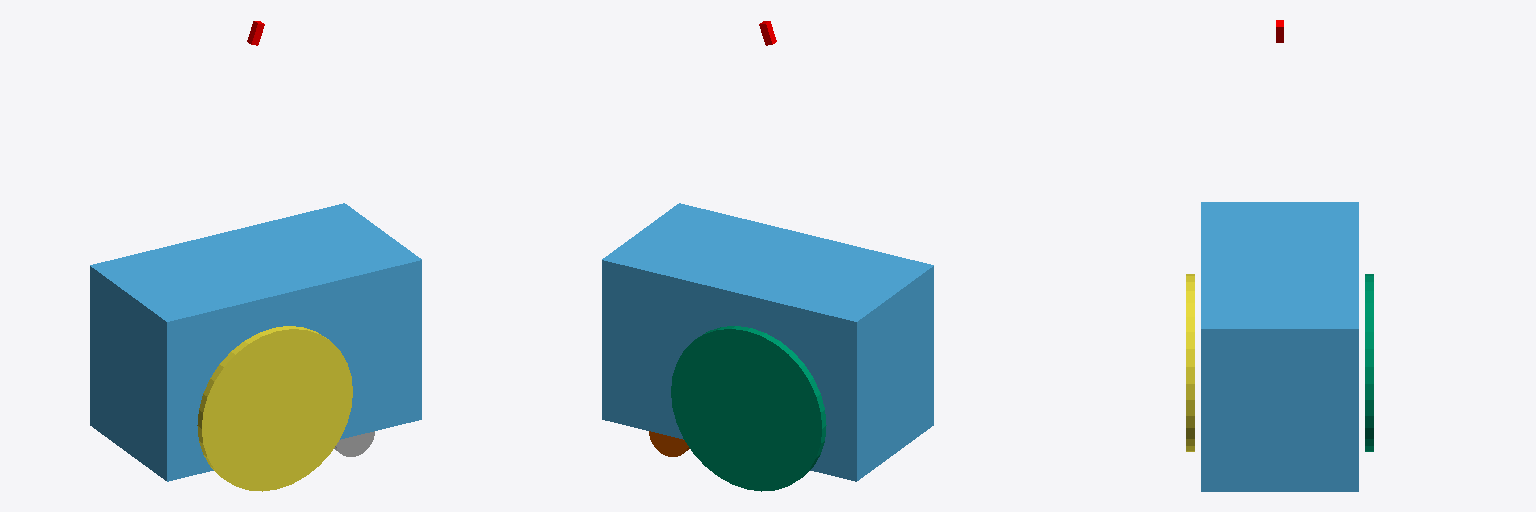
URDF robot description (momo):
<robot name="momo">
  <material name="red">
    <color rgba="1.0 0.0 0.0 1.0"/>
  </material>

  <link name="base_footprint"/>

  <link name="base_link">
    <visual name="base_visual">
      <origin xyz="0 0 0.4125" rpy="0 0 0"/>
      <geometry>
        <box size="1.029 0.542 0.615"/>
      </geometry>
    </visual>
  </link>

  <link name="wheel_left_link">
    <visual name="wheel_left_visual">
      <origin xyz="0 0 0" rpy="0 0 0"/>
      <geometry>
        <cylinder radius="0.305" length="0.030"/>
      </geometry>
    </visual>
  </link>

  <link name="wheel_right_link">
    <visual name="wheel_right_visual">
      <origin xyz="0 0 0" rpy="0 0 0"/>
      <geometry>
        <cylinder radius="0.305" length="0.030"/>
      </geometry>
    </visual>
  </link>

  <link name="caster_left_link">
    <visual name="caster_left_visual">
      <origin xyz="0 0 0" rpy="0 0 0"/>
      <geometry>
        <cylinder radius="0.021" length="0.100"/>
      </geometry>
    </visual>
  </link>

  <link name="caster_wheel_left_link">
    <visual name="caster_wheel_left_visual">
      <origin xyz="0 0 0" rpy="0 0 0"/>
      <geometry>
        <cylinder radius="0.080" length="0.030"/>
      </geometry>
    </visual>
  </link>

  <link name="caster_right_link">
    <visual name="caster_right_visual">
      <origin xyz="0 0 0" rpy="0 0 0"/>
      <geometry>
        <cylinder radius="0.021" length="0.100"/>
      </geometry>
    </visual>
  </link>

  <link name="caster_wheel_right_link">
    <visual name="caster_wheel_right_visual">
      <origin xyz="0 0 0" rpy="0 0 0"/>
      <geometry>
        <cylinder radius="0.080" length="0.030"/>
      </geometry>
    </visual>
  </link>

  <joint name="base_joint" type="fixed">
    <parent link="base_footprint"/>
    <child link="base_link"/>
    <origin xyz="0.0 0.0 0.010" rpy="0 0 0"/>
  </joint>

  <joint name="wheel_left_joint" type="revolute">
    <limit upper="6.28" lower="-6.28" effort="1000" velocity="1000.00"/>
    <parent link="base_link"/>
    <child link="wheel_left_link"/>
    <origin xyz="-0.1 0.3076 0.305" rpy="-1.57 0 0"/>

    <axis xyz="0 0 1"/>
  </joint>

  <joint name="wheel_right_joint" type="revolute">
    <limit upper="6.28" lower="-6.28" effort="1000" velocity="1000.00"/>
    <parent link="base_link"/>
    <child link="wheel_right_link"/>
    <origin xyz="-0.1 -0.3076 0.305" rpy="-1.57 0 0"/>
    <axis xyz="0 0 1"/>
  </joint>

  <joint name="caster_left_joint" type="revolute">
    <limit upper="6.28" lower="-6.28" effort="1000" velocity="1000.00"/>
    <parent link="base_link"/>
    <child link="caster_left_link"/>
    <origin xyz="0.32 0.21 0.18" rpy="0 0 0"/>
    <axis xyz="0 0 1"/>
  </joint>

  <joint name="caster_wheel_left_joint" type="revolute">
    <limit upper="6.28" lower="-6.28" effort="1000" velocity="1000.00"/>
    <parent link="caster_left_link"/>
    <child link="caster_wheel_left_link"/>
    <origin xyz="-0.05 0 -0.1" rpy="-1.57 0 0"/>
    <axis xyz="0 0 1"/>
  </joint>

  <joint name="caster_right_joint" type="revolute">
    <limit upper="6.28" lower="-6.28" effort="1000" velocity="1000.00"/>
    <parent link="base_link"/>
    <child link="caster_right_link"/>
    <origin xyz="0.32 -0.21 0.18" rpy="0 0 0"/>
    <axis xyz="0 0 1"/>
  </joint>

  <joint name="caster_wheel_right_joint" type="revolute">
    <limit upper="6.28" lower="-6.28" effort="1000" velocity="1000.00"/>
    <parent link="caster_right_link"/>
    <child link="caster_wheel_right_link"/>
    <origin xyz="-0.05 0 -0.1" rpy="-1.57 0 0"/>
    <axis xyz="0 0 1"/>
  </joint>

  <!-- Depth camera -->
  <link name="camera_link">
    <origin xyz="0 0 0" rpy="0 0 0"/>
    <visual name="camera_visual">
      <geometry>
        <box size="0.03 0.08 0.03"/>
      </geometry>
      <material name="red"/>
    </visual>
  </link>

  <joint name="camera_joint" type="fixed">
    <parent link="base_link"/>
    <child link="camera_link"/>
    <origin xyz="0 0 1.604" rpy="1.22173  3.14159 1.5708 "/>
    <!-- 0.349066 -->
  </joint>
</robot>

--- Render facts (derived) ---
3 views of the same robot in one strip: view 1: azimuth 30°, elevation 25°; view 2: azimuth 150°, elevation 25°; view 3: azimuth 270°, elevation 25° (orthographic).
Model momo with 9 links and 8 joints (6 revolute, 2 fixed), rooted at base_footprint, posed all joints at 0.
Visible links, largest first — view 1: base_link, wheel_right_link, caster_wheel_right_link; view 2: base_link, wheel_left_link, caster_wheel_left_link; view 3: base_link, wheel_left_link, wheel_right_link.
Boxes of the visible links, left/top/right/bottom form: base_link: left=90, top=203, right=421, bottom=481; wheel_right_link: left=197, top=326, right=352, bottom=491; caster_wheel_right_link: left=334, top=431, right=374, bottom=456; base_link: left=602, top=203, right=933, bottom=481; wheel_left_link: left=671, top=326, right=826, bottom=491; caster_wheel_left_link: left=649, top=431, right=689, bottom=456; base_link: left=1201, top=202, right=1358, bottom=491; wheel_left_link: left=1365, top=274, right=1373, bottom=451; wheel_right_link: left=1186, top=274, right=1194, bottom=451.
Size in the robot's own frame: 1.03 by 0.6457 by 1.65 metres.
Geometry: primitives only (box / cylinder / sphere), no mesh files.